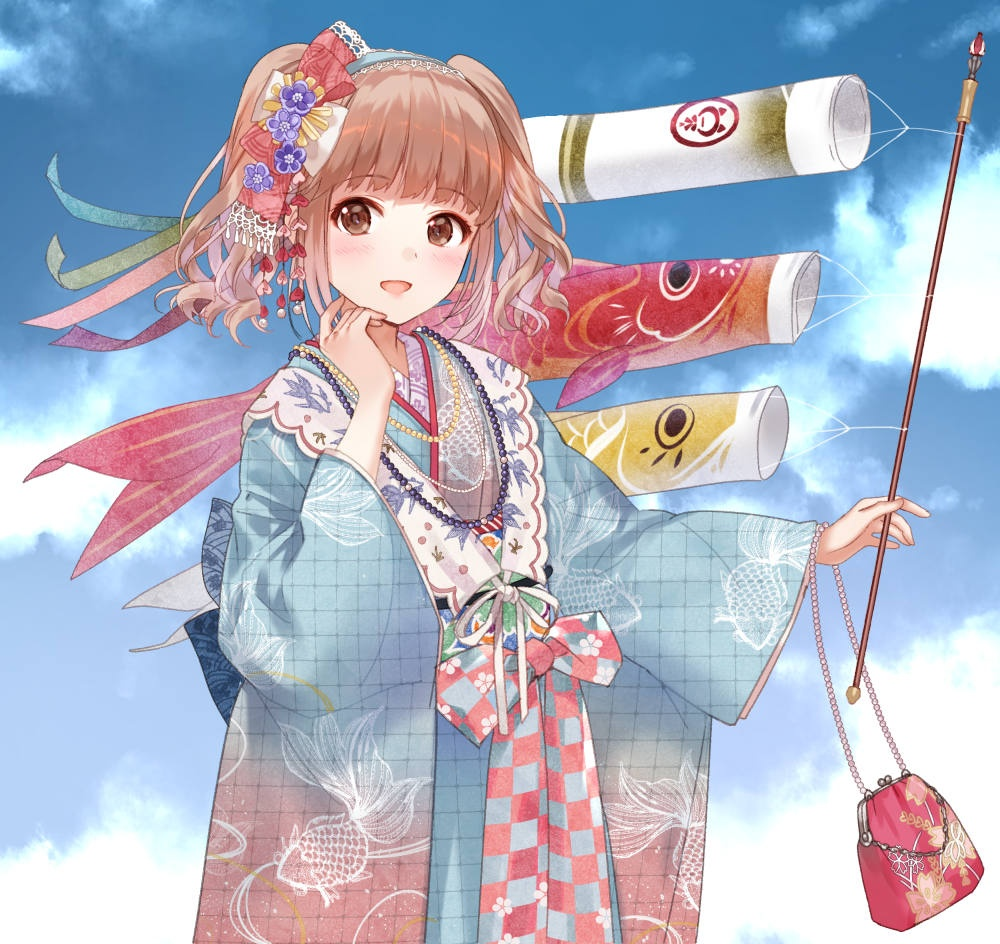纸片人正脸: (222, 27, 550, 340)
